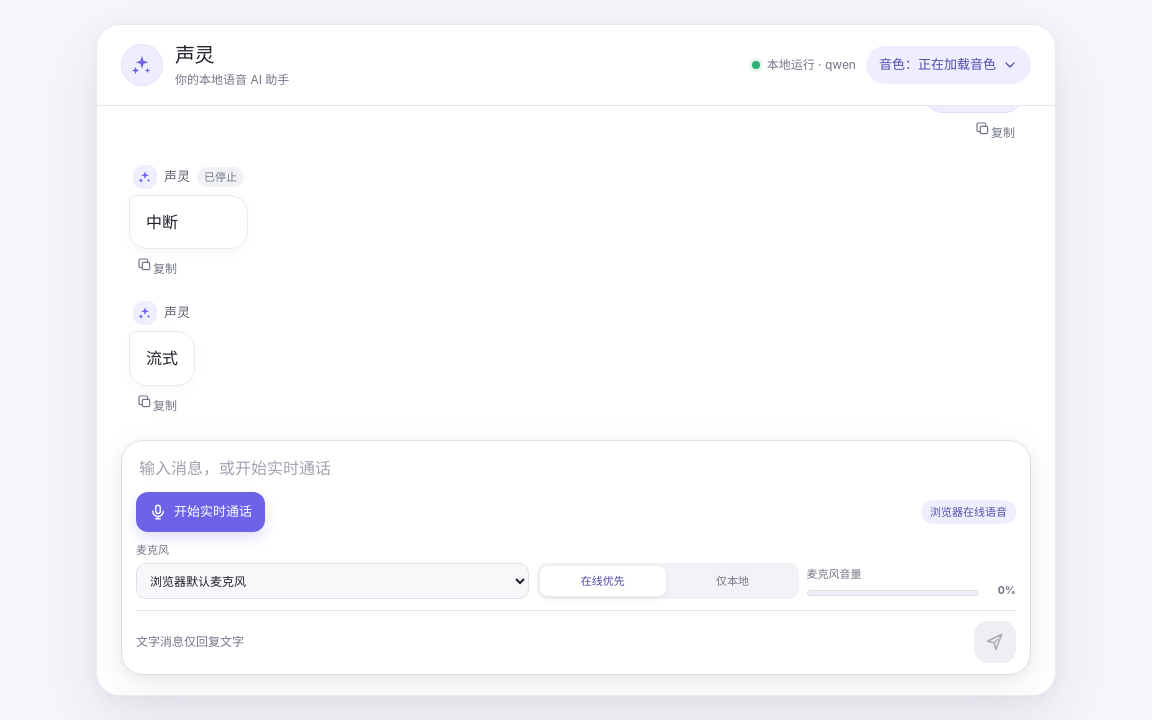
Test case: App › never renders or submits a private voice identifier before the catalog loads
(page scrolled)
Click the button "音色：正在加载音色".
click(948, 65)  # box [866, 46, 1031, 84]
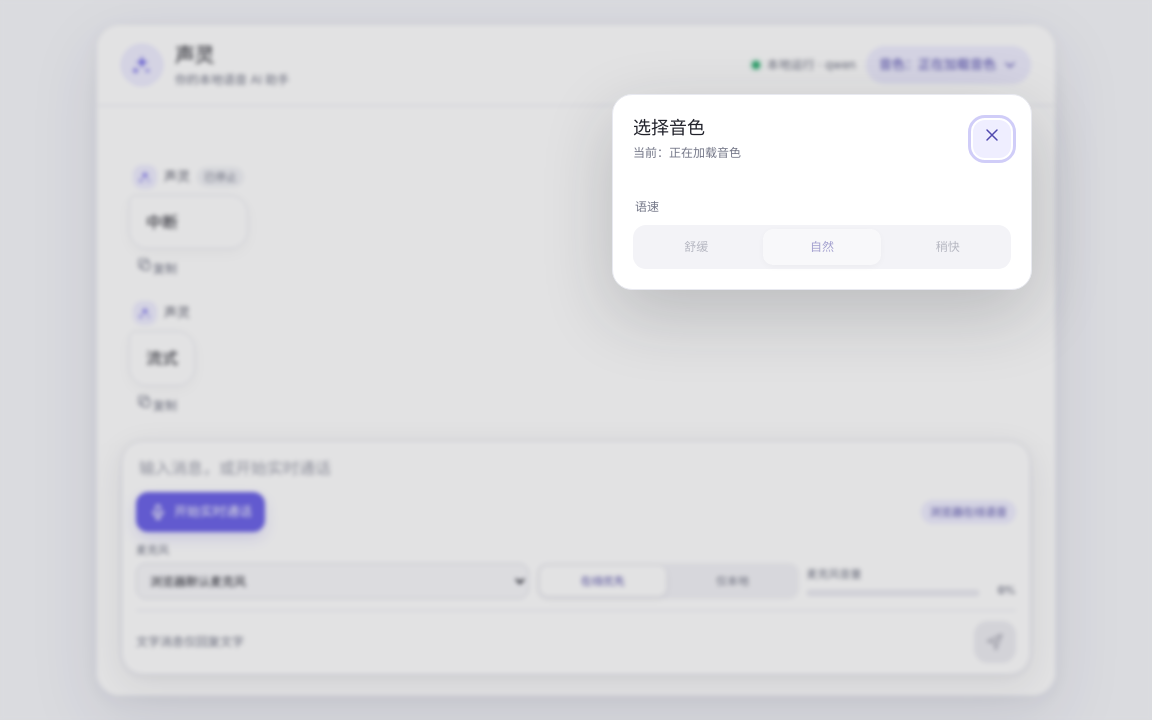
Expected: the button "舒缓" is disabled, [637, 229, 756, 265]
Expected: the button "自然" is disabled, [763, 229, 881, 265]
Expected: the button "稍快" is disabled, [888, 229, 1007, 265]
